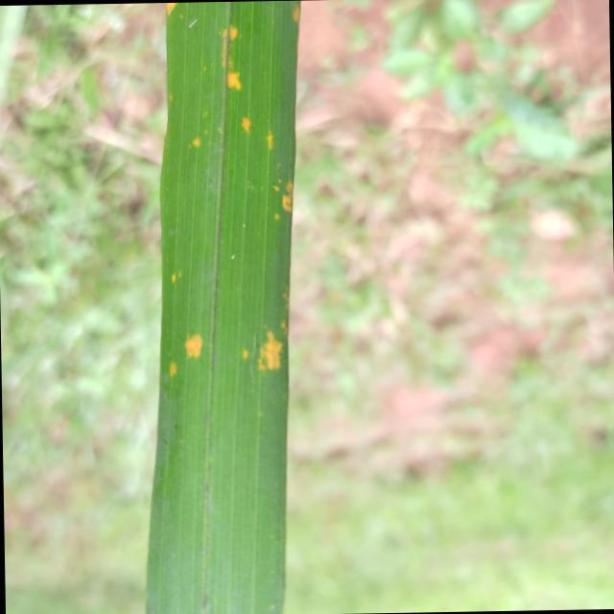Kalium: (147, 0, 301, 614)
